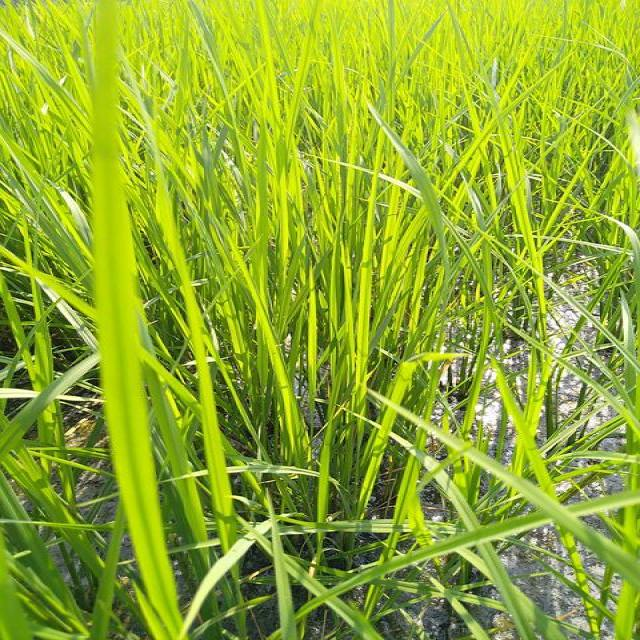Rice: (94, 6, 180, 639), (240, 258, 313, 469), (181, 257, 235, 542), (368, 105, 452, 270), (382, 360, 448, 558), (448, 483, 531, 640), (0, 29, 94, 139), (495, 360, 561, 504), (492, 89, 540, 268), (350, 224, 375, 434), (266, 487, 297, 638)
